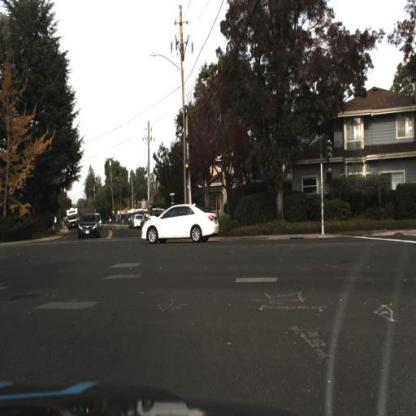car: (132, 194, 225, 250), (76, 210, 101, 237), (145, 201, 172, 225)
trafficLight-Red: (182, 155, 194, 187), (185, 157, 191, 184)
truck: (65, 206, 81, 233)
